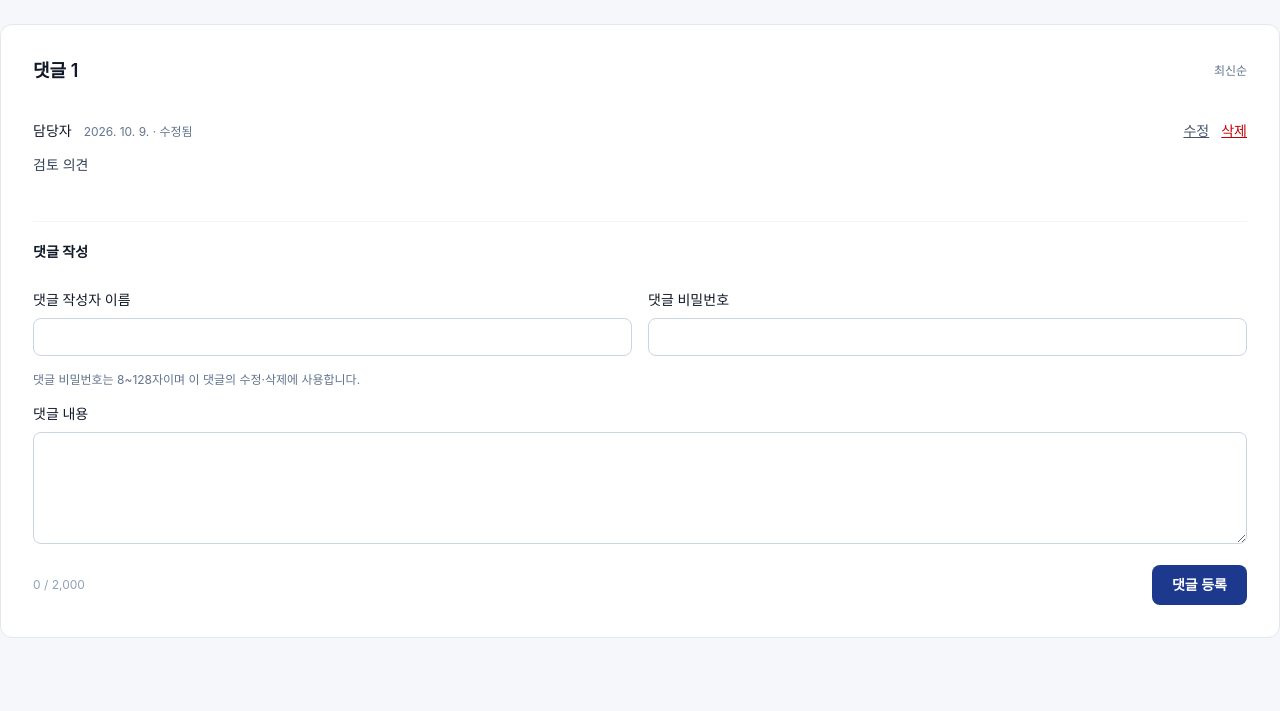
Scenario: board comment workflows › keeps an edit on a password error and sends the original revision on retry
Click the button with aria-label "담당자 댓글 수정". click: [1196, 131]
box: left=1184, top=121, right=1209, bottom=141
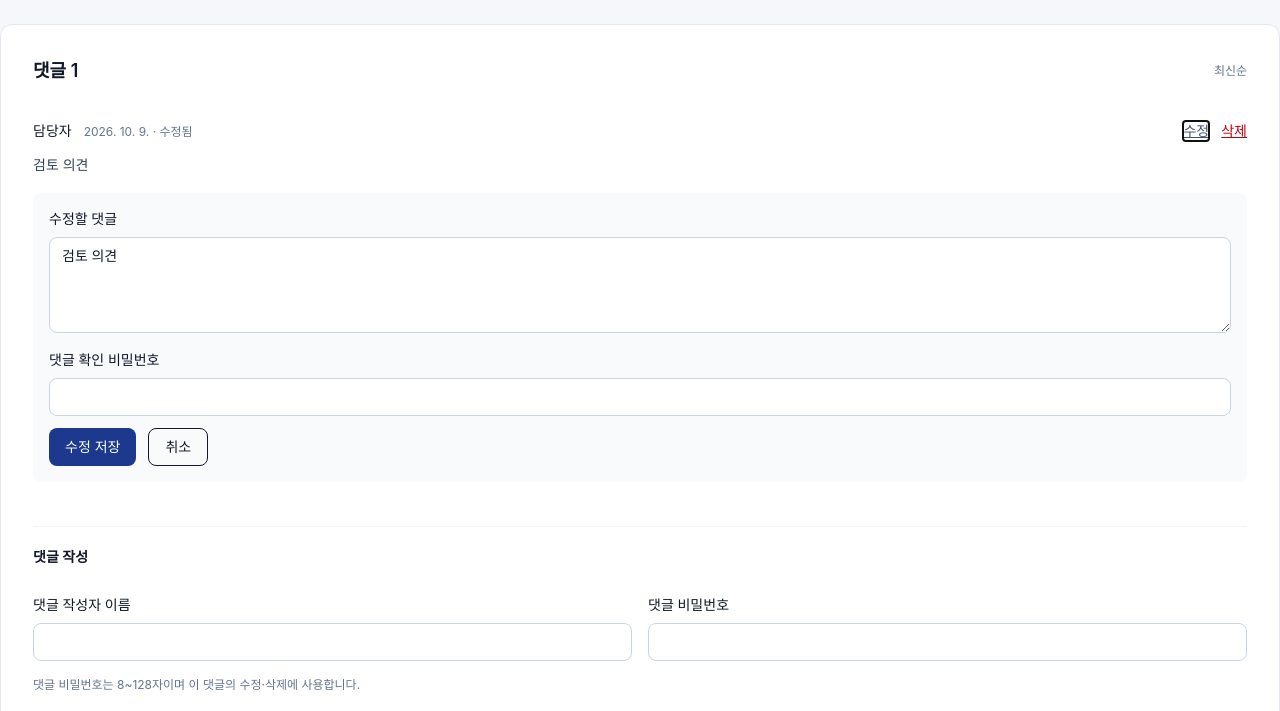
Replace the text in the text box labelled "수정할 댓글" with "수정 의견". click: [640, 285]
box: left=49, top=237, right=1231, bottom=333
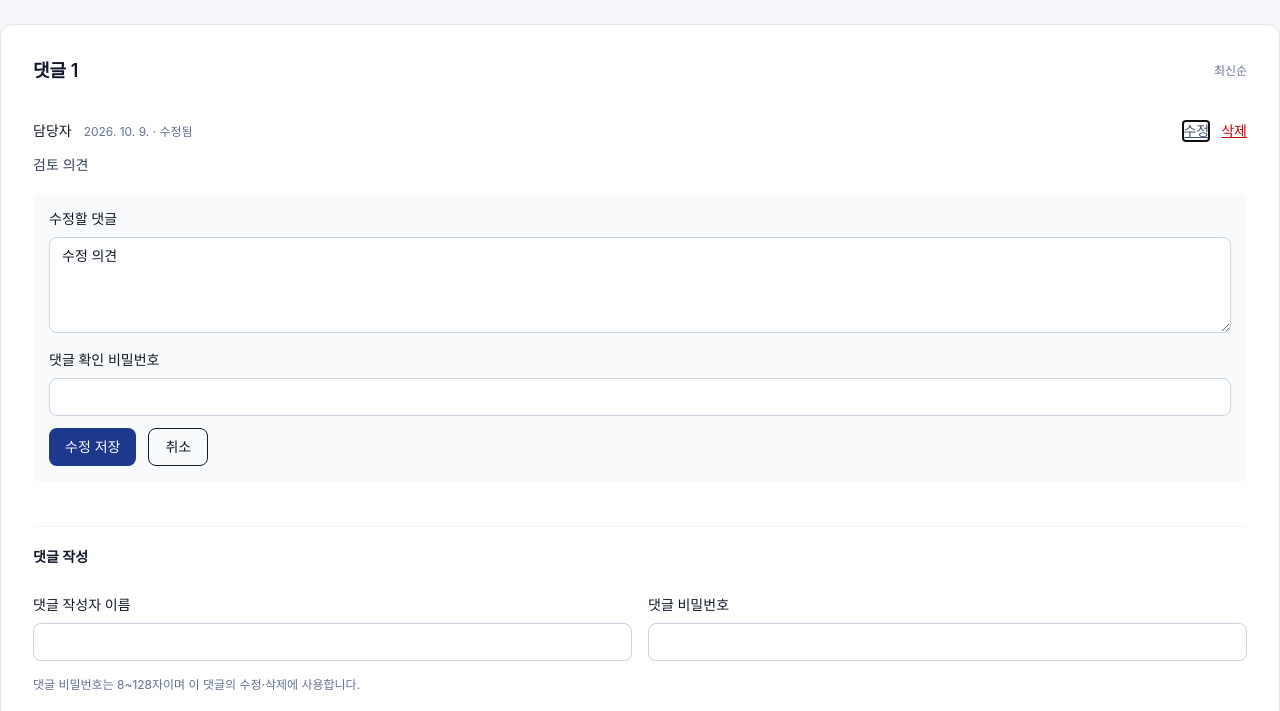
Type "wrong-password" into the password field labelled "댓글 확인 비밀번호". click: [640, 397]
box: left=49, top=378, right=1231, bottom=416
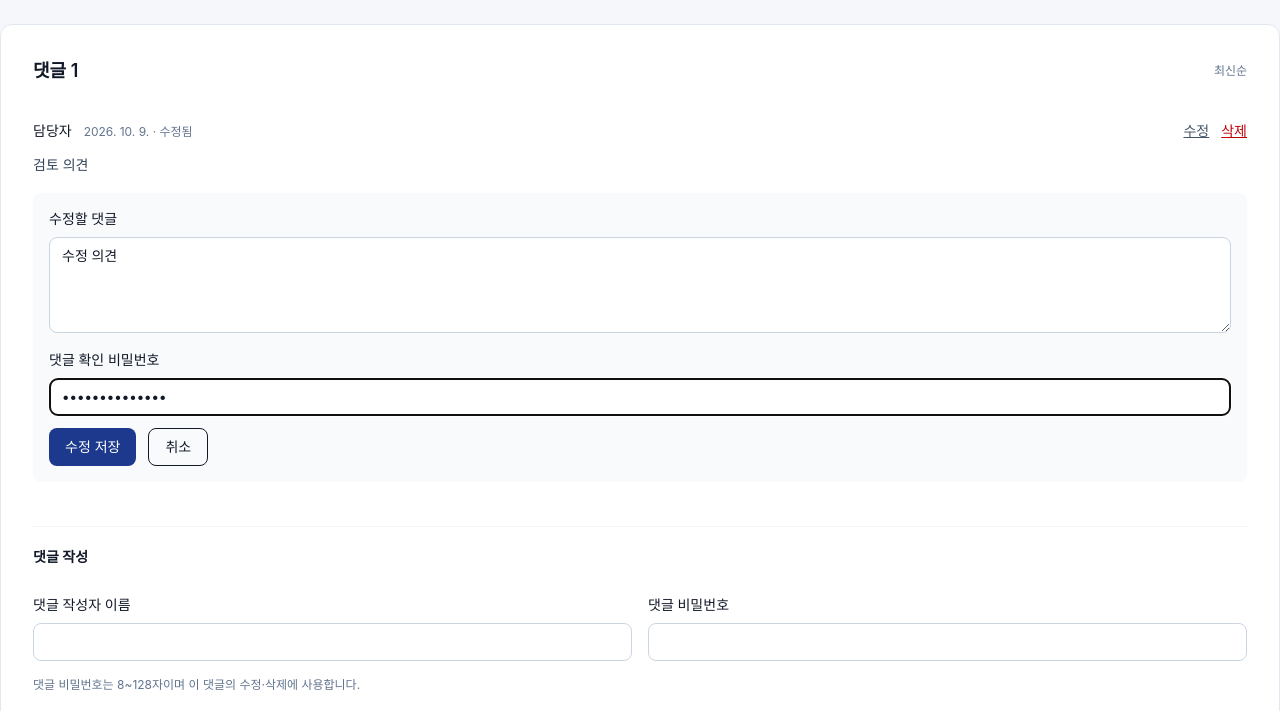
Click the button "수정 저장". click: [93, 447]
box: left=49, top=428, right=136, bottom=466
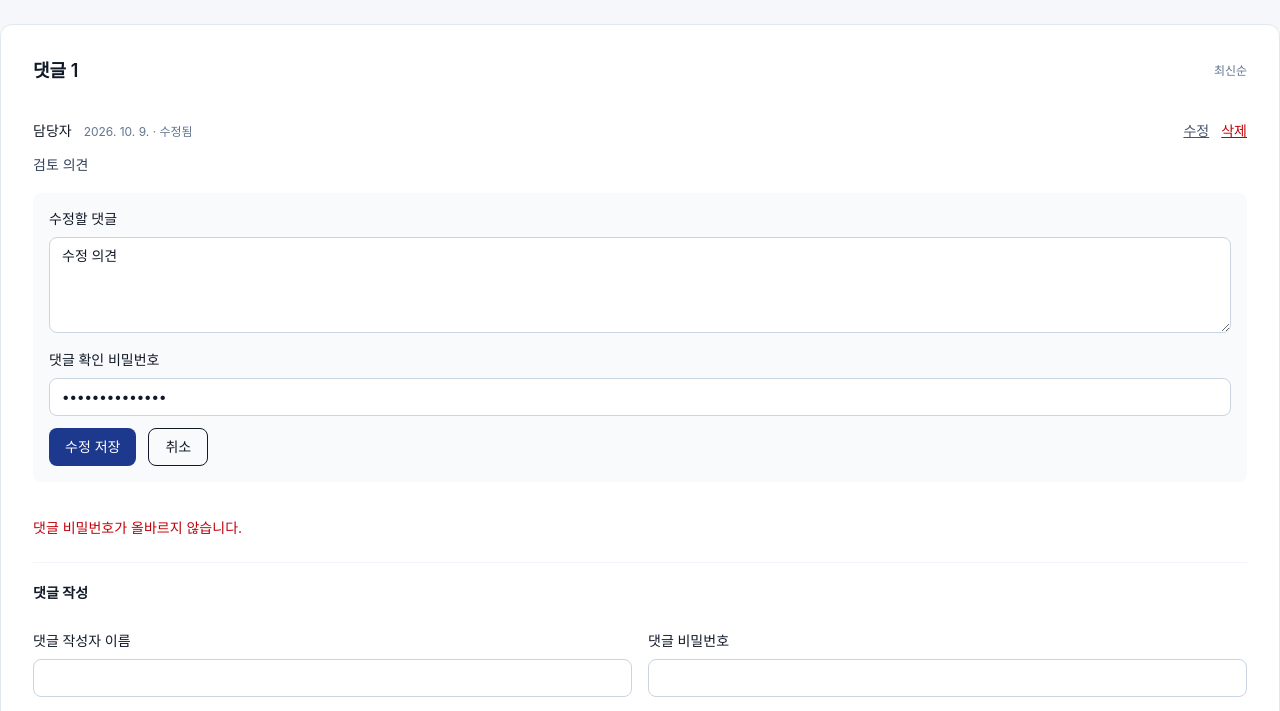
Expected: the message shows "올바르지 않습니다", left=33, top=519, right=242, bottom=536
Type "test-comment-password" into the password field labelled "댓글 확인 비밀번호". click: [640, 397]
box: left=49, top=378, right=1231, bottom=416
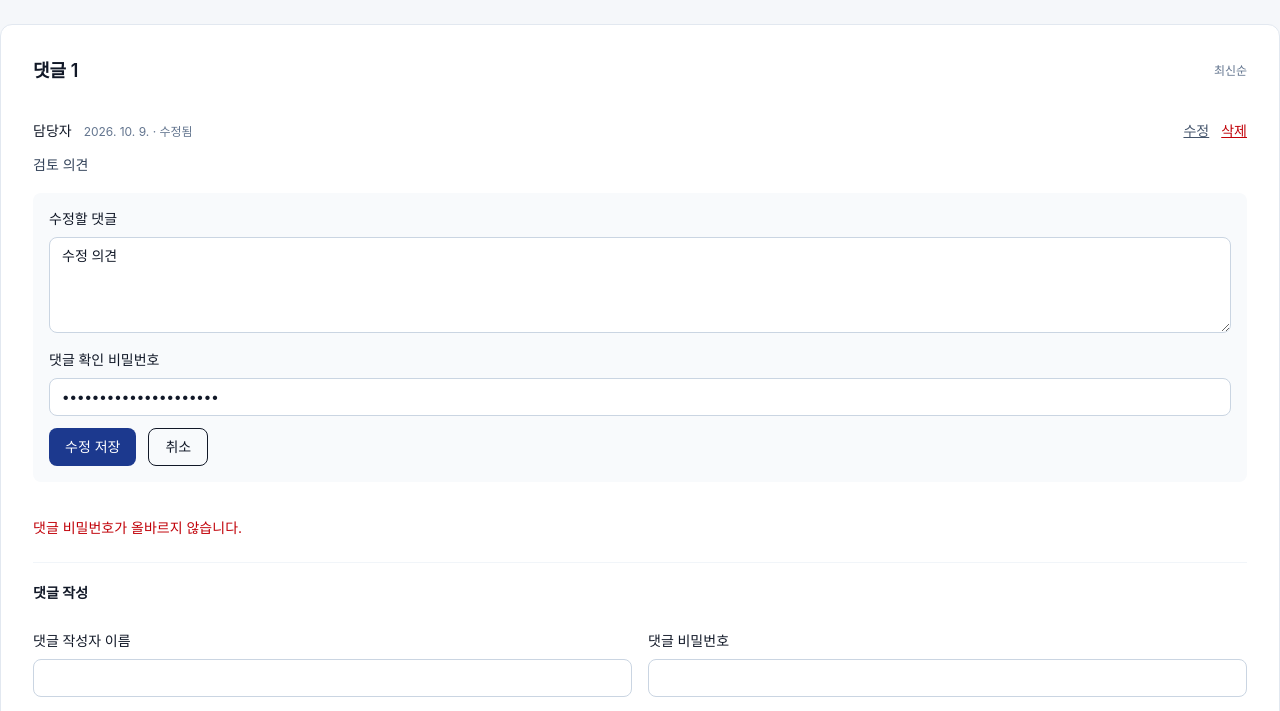
Click the button "수정 저장". click: [93, 447]
box: left=49, top=428, right=136, bottom=466
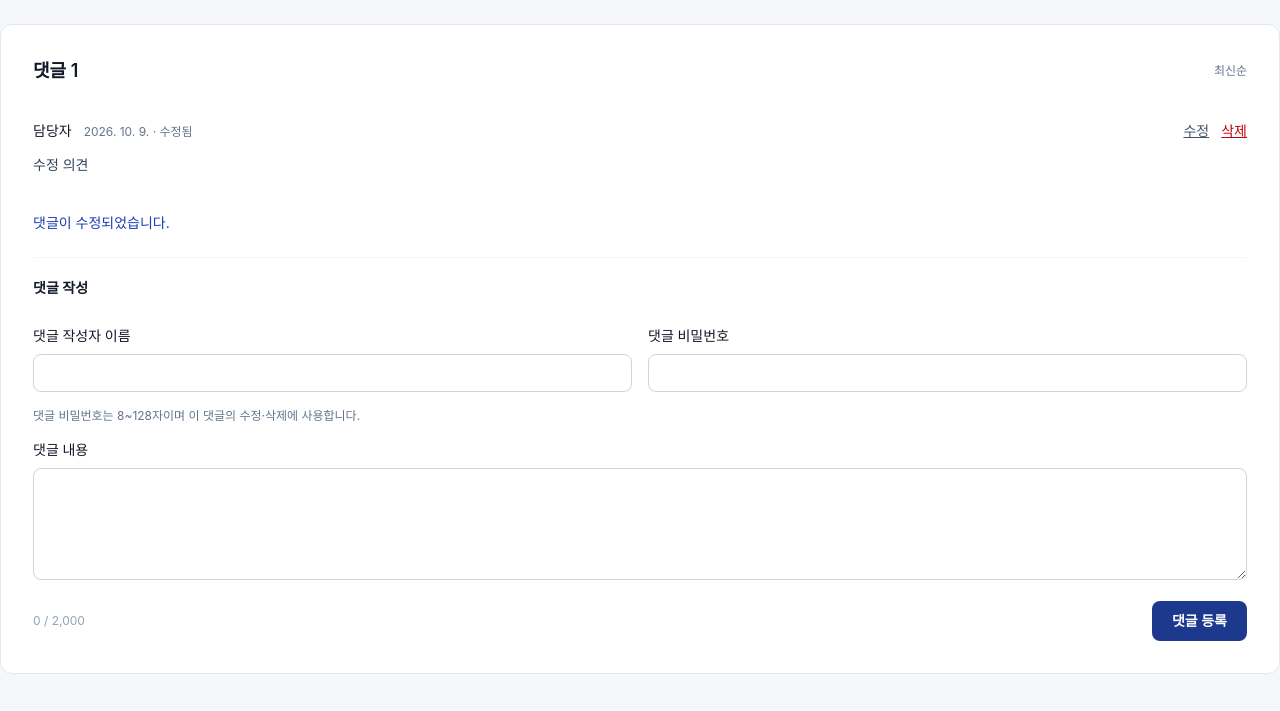
Expected: the text "댓글이 수정되었습니다." is shown, left=33, top=214, right=170, bottom=231
Expected: the text "수정 의견" is shown, left=33, top=156, right=88, bottom=173
Expected: the label labelled "댓글 확인 비밀번호" is gone
